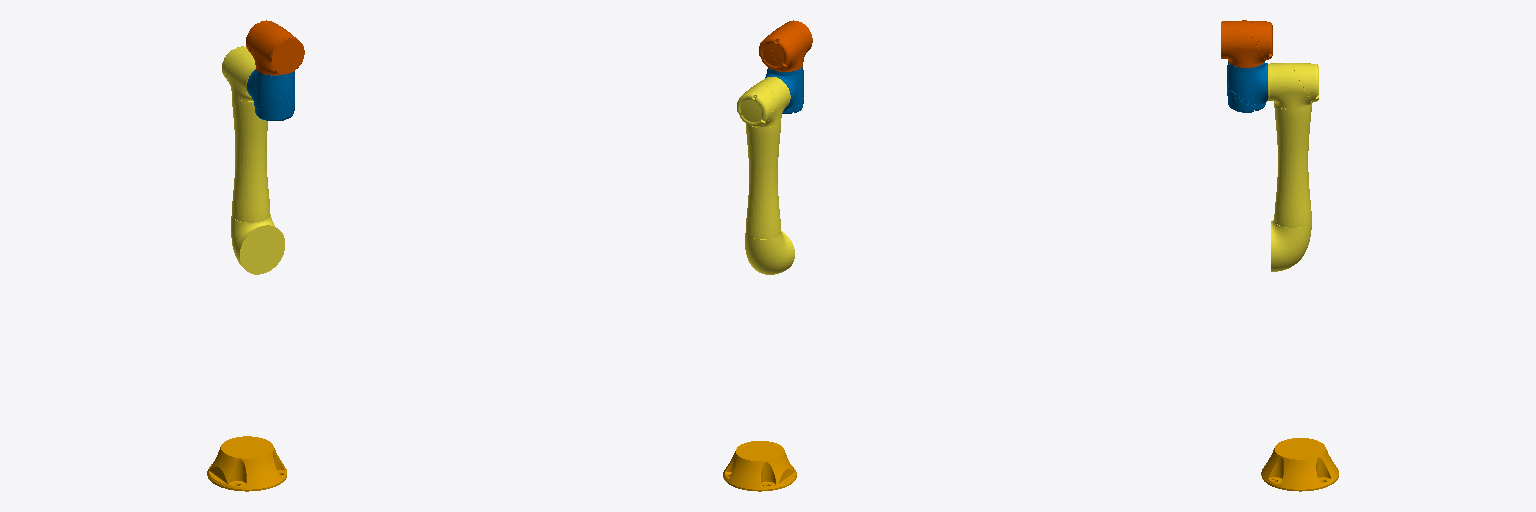
robot.urdf — tm5-900:
<?xml version="1.0" ?>
<!-- TM5-900 URDF Example -->
<robot name="tm5-900">

  <link name="link_0">
    <visual>
      <geometry>
        <mesh filename="package://tm_description/meshes/tm5-900/visual/tm5-base.obj"/>
      </geometry>
    </visual>
    <collision>
      <geometry>
        <mesh filename="package://tm_description/meshes/tm5-900/collision/tm5-base_c.stl"/>
      </geometry>
    </collision>
  </link>

  <joint name="joint_1" type="revolute">
    <parent link="link_0"/>
    <child link="link_1"/>
    <origin rpy="0.000000 -0.000000 0.000000" xyz="0.000000 0.000000 0.145200"/>
    <axis xyz="0 0 1"/>
    <limit effort="157" lower="-4.71238898038469" upper="4.71238898038469" velocity="3.141592653589793"/>
  </joint>

  <link name="link_1">
    <visual>
      <geometry>
        <mesh filename="package://tm_description/meshes/tm5-900/visual/tmr_400w_01.obj"/>
      </geometry>
    </visual>
    <collision>
      <geometry>
        <mesh filename="package://tm_description/meshes/tm5-900/collision/tmr_400w_01_c.stl"/>
      </geometry>
    </collision>
  </link>

  <joint name="joint_2" type="revolute">
    <parent link="link_1"/>
    <child link="link_2"/>
    <origin rpy="-1.570796 -1.570796 0.000000" xyz="0.000000 0.000000 0.000000"/>
    <axis xyz="0 0 1"/>
    <limit effort="157" lower="-3.141592653589793" upper="3.141592653589793" velocity="3.141592653589793"/>
  </joint>

  <link name="link_2">
    <visual>
      <geometry>
        <mesh filename="package://tm_description/meshes/tm5-900/visual/tm5-900_arm1.obj"/>
      </geometry>
    </visual>
    <collision>
      <geometry>
        <mesh filename="package://tm_description/meshes/tm5-900/collision/tm5-900_arm1_c.stl"/>
      </geometry>
    </collision>
  </link>

  <joint name="joint_3" type="revolute">
    <parent link="link_2"/>
    <child link="link_3"/>
    <origin rpy="0.000000 -0.000000 0.000000" xyz="0.429000 0.000000 0.000000"/>
    <axis xyz="0 0 1"/>
    <limit effort="157" lower="-2.705260340591211" upper="2.705260340591211" velocity="3.141592653589793"/>
  </joint>

  <link name="link_3">
    <visual>
      <geometry>
        <mesh filename="package://tm_description/meshes/tm5-900/visual/tm5-900_arm2.obj"/>
      </geometry>
    </visual>
    <collision>
      <geometry>
        <mesh filename="package://tm_description/meshes/tm5-900/collision/tm5-900_arm2_c.stl"/>
      </geometry>
    </collision>
  </link>

  <joint name="joint_4" type="revolute">
    <parent link="link_3"/>
    <child link="link_4"/>
    <origin rpy="0.000000 -0.000000 1.570796" xyz="0.411500 0.000000 -0.122300"/>
    <axis xyz="0 0 1"/>
    <limit effort="43" lower="-3.141592653589793" upper="3.141592653589793" velocity="3.9269908169872414"/>
  </joint>

  <link name="link_4">
    <visual>
      <geometry>
        <mesh filename="package://tm_description/meshes/tm5-900/visual/tmr_100w_01.obj"/>
      </geometry>
    </visual>
    <collision>
      <geometry>
        <mesh filename="package://tm_description/meshes/tm5-900/collision/tmr_100w_01_c.stl"/>
      </geometry>
    </collision>
  </link>

  <joint name="joint_5" type="revolute">
    <parent link="link_4"/>
    <child link="link_5"/>
    <origin rpy="1.570796 -0.000000 0.000000" xyz="0.000000 -0.106000 0.000000"/>
    <axis xyz="0 0 1"/>
    <limit effort="43" lower="-3.141592653589793" upper="3.141592653589793" velocity="3.9269908169872414"/>
  </joint>

  <link name="link_5">
    <visual>
      <geometry>
        <mesh filename="package://tm_description/meshes/tm5-900/visual/tmr_100w_02.obj"/>
      </geometry>
    </visual>
    <collision>
      <geometry>
        <mesh filename="package://tm_description/meshes/tm5-900/collision/tmr_100w_02_c.stl"/>
      </geometry>
    </collision>
  </link>

  <joint name="joint_6" type="revolute">
    <parent link="link_5"/>
    <child link="link_6"/>
    <origin rpy="1.570796 -0.000000 0.000000" xyz="0.000000 -0.113150 0.000000"/>
    <axis xyz="0 0 1"/>
    <limit effort="43" lower="-4.71238898038469" upper="4.71238898038469" velocity="3.9269908169872414"/>
  </joint>

  <link name="link_6">
    <visual>
      <geometry>
        <mesh filename="package://tm_description/meshes/tm5-900/visual/tmr_ee.obj"/>
      </geometry>
    </visual>
    <collision>
      <geometry>
        <mesh filename="package://tm_description/meshes/tm5-900/collision/tmr_ee_c.stl"/>
      </geometry>
    </collision>
  </link>

  <link name="base_link"/>
  <joint name="base_fixed_joint" type="fixed">
    <parent link="base_link"/>
    <child link="link_0"/>
    <origin rpy="0.000000 0.000000 0.000000" xyz="0.000000 0.000000 0.000000"/>
  </joint>

  <link name="flange"/>
  <joint name="flange_fixed_joint" type="fixed">
    <parent link="link_6"/>
    <child link="flange"/>
    <origin rpy="0.000000 0.000000 0.000000" xyz="0.000000 0.000000 0.000000"/>
  </joint>

</robot>

--- What the picture shows (computed from the rendered views, not written in the file) ---
The picture shows the robot from 3 angles, left to right: view 1: azimuth 30°, elevation 25°; view 2: azimuth 150°, elevation 25°; view 3: azimuth 270°, elevation 25°; orthographic projection.
Model tm5-900 with 9 links and 8 joints (6 revolute, 2 fixed), rooted at base_link, posed all joints at 0.
Visible links, largest first — view 1: link_3, link_0, link_5, link_4; view 2: link_3, link_0, link_5, link_4; view 3: link_3, link_0, link_5, link_4.
Link boxes in pixels (x1,y1,x2,y2): link_3: (222,46,284,274); link_0: (207,436,286,491); link_5: (246,20,304,75); link_4: (247,69,294,120); link_3: (737,77,794,274); link_0: (723,441,796,491); link_5: (759,20,812,71); link_4: (765,67,803,113); link_3: (1268,63,1318,271); link_0: (1261,438,1338,491); link_5: (1221,20,1272,67); link_4: (1227,62,1267,112).
Bounding box of the posed robot: 0.177 × 0.2693 × 1.14 m (x, y, z).
4 mesh visuals loaded from 7 distinct referenced files (4 OBJ); not drawn: 3 (reference not matched to a file when rendering).